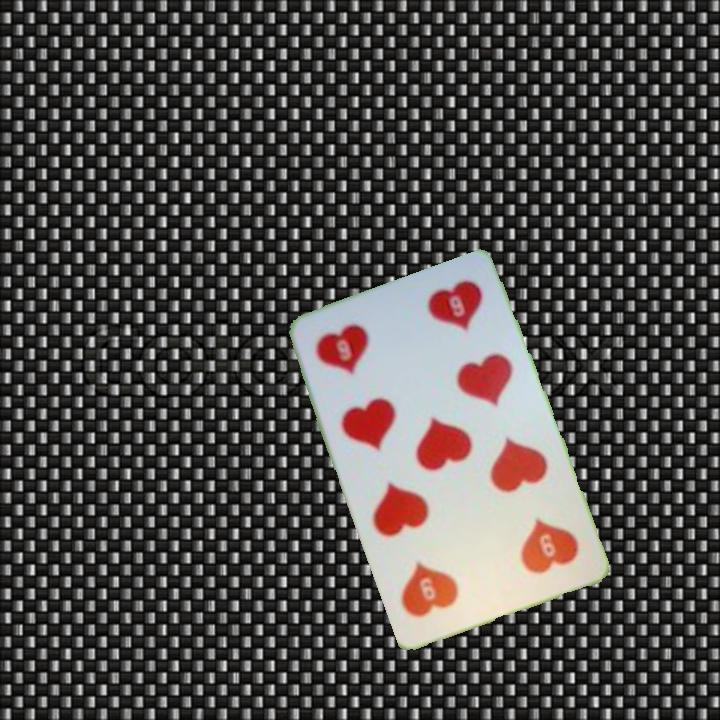h_9.png: (302, 297, 423, 411), (471, 487, 592, 600)
